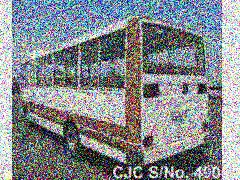bus: (18, 14, 213, 178)
